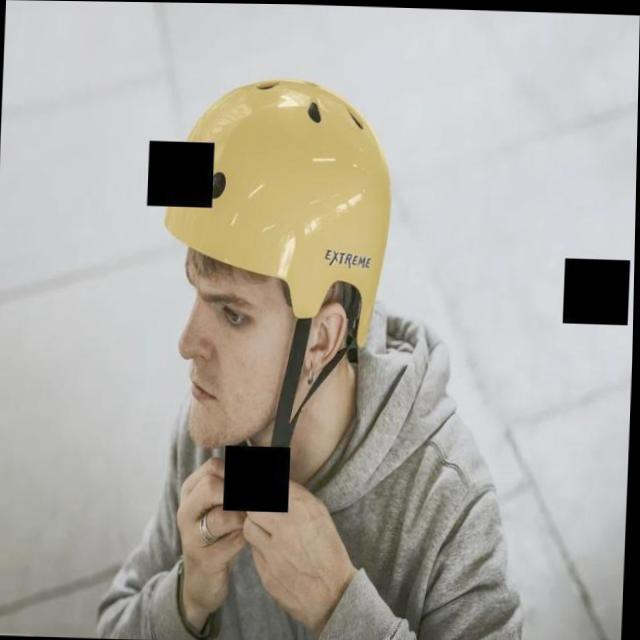helmet: (159, 77, 401, 452)
